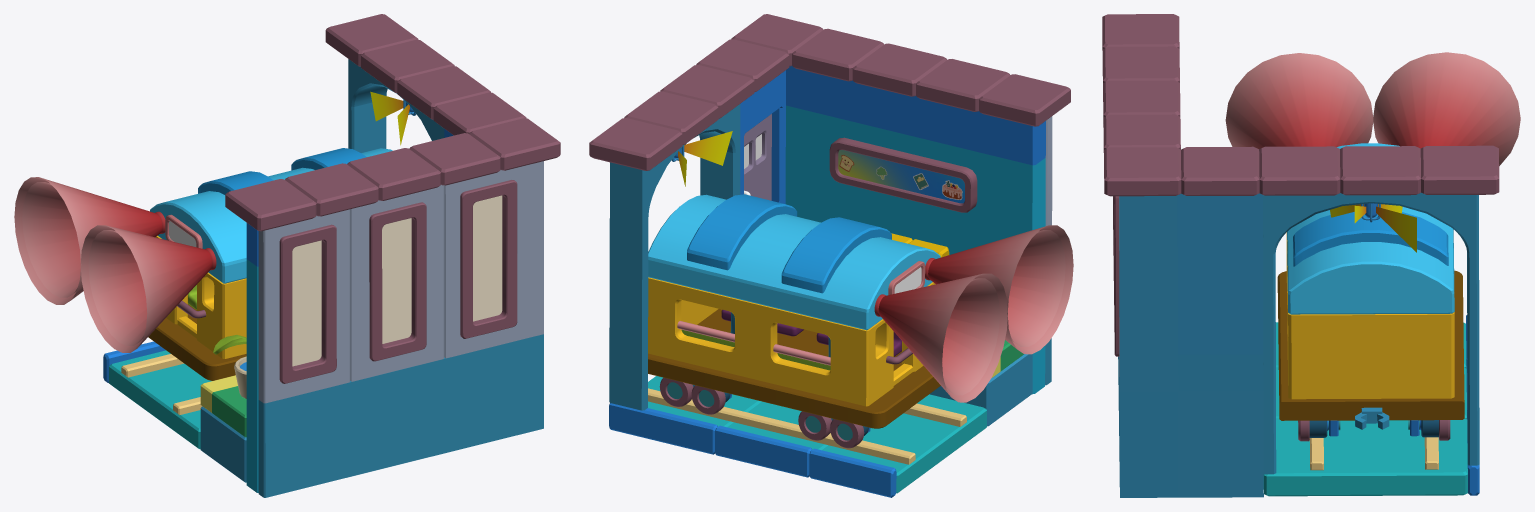
The model's file is lvl_102.fbx.
3 renders of one model, left to right at view 1: azimuth 30°, elevation 25°; view 2: azimuth 150°, elevation 25°; view 3: azimuth 270°, elevation 25°, orthographic. The views are drawn at different scales.
Parts seen in each view (by area): view 1: Board_Subway_47, Board_Subway_29, Board_Subway_31, Board_Subway_30, Board_Subway_2, Board_Subway_17, Board_Subway_39, Board_Subway_33, Board_Subway_40, Board_Subway_1, Board_Subway_36, Board_Subway_34 (+15 smaller); view 2: Board_Subway_47, Board_Subway_1, Board_Subway_44, Board_Subway_22, Board_Subway_42, Board_Subway_5, Board_Subway_9, Board_Subway_17, Board_Subway_57, Board_Subway_38, Board_Subway_39, Board_Subway_3 (+24 smaller); view 3: Board_Subway_32, Board_Subway_47, Board_Subway_53, Board_Subway_6, Board_Subway_57, Board_Subway_42, Board_Subway_41, Board_Subway_37, Board_Subway_38, Board_Subway_35, Board_Subway_36, Board_Subway_58 (+10 smaller).
Part boxes in pixels (bbox=[...]): Board_Subway_47: bbox=[14, 148, 392, 352]; Board_Subway_29: bbox=[258, 334, 543, 497]; Board_Subway_31: bbox=[444, 161, 543, 358]; Board_Subway_30: bbox=[350, 185, 444, 381]; Board_Subway_2: bbox=[258, 209, 349, 403]; Board_Subway_17: bbox=[109, 350, 211, 449]; Board_Subway_39: bbox=[225, 179, 316, 231]; Board_Subway_33: bbox=[285, 163, 378, 216]; Board_Subway_40: bbox=[347, 148, 440, 200]; Board_Subway_1: bbox=[246, 259, 258, 492]; Board_Subway_36: bbox=[469, 118, 560, 170]; Board_Subway_34: bbox=[409, 133, 500, 185]; Board_Subway_47: bbox=[648, 194, 1073, 402]; Board_Subway_1: bbox=[785, 105, 1045, 394]; Board_Subway_44: bbox=[655, 279, 854, 403]; Board_Subway_22: bbox=[786, 66, 1045, 165]; Board_Subway_42: bbox=[648, 309, 940, 428]; Board_Subway_5: bbox=[609, 212, 648, 410]; Board_Subway_9: bbox=[829, 137, 977, 212]; Board_Subway_17: bbox=[822, 394, 986, 493]; Board_Subway_57: bbox=[610, 104, 740, 219]; Board_Subway_38: bbox=[589, 118, 682, 170]; Board_Subway_39: bbox=[979, 74, 1070, 126]; Board_Subway_3: bbox=[609, 403, 717, 454]; Board_Subway_32: bbox=[1119, 193, 1263, 497]; Board_Subway_47: bbox=[1225, 52, 1520, 314]; Board_Subway_53: bbox=[1288, 312, 1454, 399]; Board_Subway_6: bbox=[1263, 418, 1467, 496]; Board_Subway_57: bbox=[1263, 192, 1478, 254]; Board_Subway_42: bbox=[1277, 270, 1464, 429]; Board_Subway_41: bbox=[1259, 146, 1340, 195]; Board_Subway_37: bbox=[1340, 146, 1420, 195]; Board_Subway_38: bbox=[1420, 145, 1499, 194]; Board_Subway_35: bbox=[1181, 146, 1259, 195]; Board_Subway_36: bbox=[1104, 147, 1181, 196]; Board_Subway_58: bbox=[1263, 253, 1276, 474].
Bounding box in the file's own units: 9.51 × 7.18 × 8.35.
